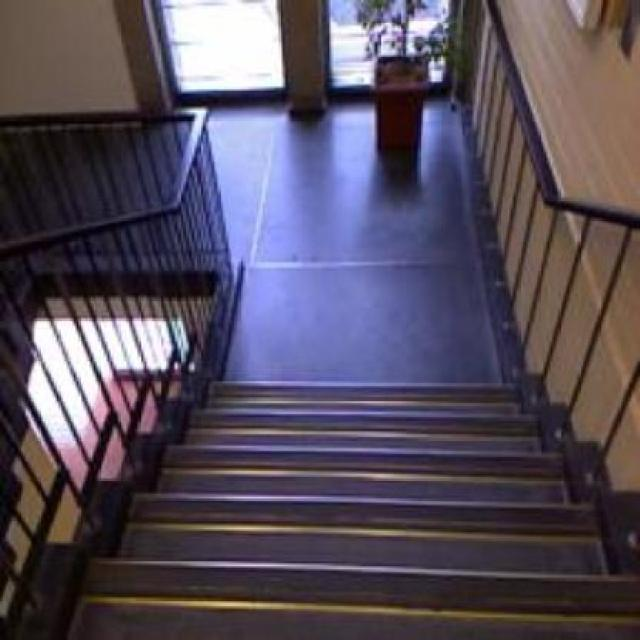stair: (90, 366, 628, 628)
